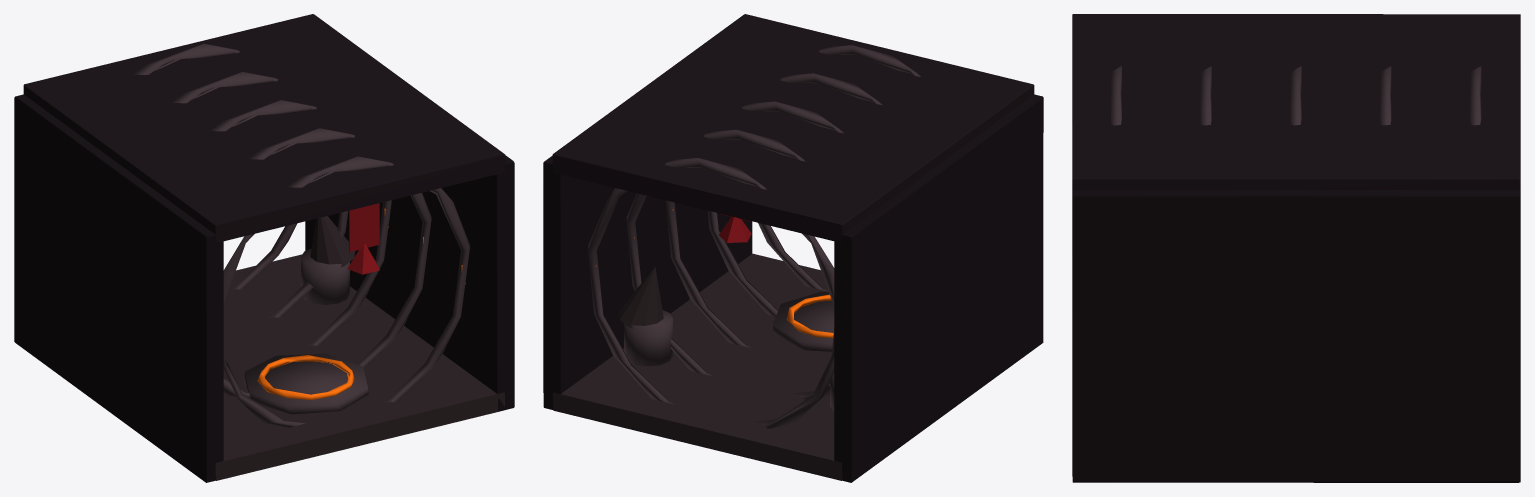
Rendered from start_hall.obj.
3 renders of one model, left to right at view 1: azimuth 30°, elevation 25°; view 2: azimuth 150°, elevation 25°; view 3: azimuth 270°, elevation 25°, orthographic. The views are drawn at different scales.
Parts seen in each view (by area): view 1: StartHall_Ceiling, StartHall_Wall_L, StartHall_Floor, StartHall_Wall_R, StartHall_Arch_4, StartHall_Landing, StartHall_Arch_3, StartHall_Arch_2, StartHall_DragonPedestal_1, StartHall_Arch_0, StartHall_Arch_1, StartHall_Dragon_1 (+3 smaller); view 2: StartHall_Ceiling, StartHall_Wall_L, StartHall_Floor, StartHall_Wall_R, StartHall_Arch_0, StartHall_Arch_2, StartHall_Arch_1, StartHall_Landing, StartHall_Arch_3, StartHall_DragonPedestal_1, StartHall_Arch_4, StartHall_Dragon_1 (+2 smaller); view 3: StartHall_Wall_R, StartHall_Ceiling, StartHall_Arch_0, StartHall_Arch_2, StartHall_Arch_1, StartHall_Arch_3, StartHall_Arch_4.
Part boxes in pixels (left/top/right/bottom): StartHall_Ceiling: left=23, top=14, right=505, bottom=242; StartHall_Wall_L: left=14, top=94, right=223, bottom=482; StartHall_Floor: left=215, top=254, right=504, bottom=480; StartHall_Wall_R: left=305, top=155, right=514, bottom=411; StartHall_Arch_4: left=223, top=156, right=470, bottom=428; StartHall_Landing: left=244, top=353, right=368, bottom=414; StartHall_Arch_3: left=223, top=128, right=431, bottom=398; StartHall_Arch_2: left=210, top=100, right=391, bottom=346; StartHall_DragonPedestal_1: left=301, top=248, right=349, bottom=304; StartHall_Arch_0: left=133, top=43, right=297, bottom=289; StartHall_Arch_1: left=172, top=72, right=348, bottom=318; StartHall_Dragon_1: left=310, top=216, right=355, bottom=266; StartHall_Ceiling: left=552, top=14, right=1034, bottom=242; StartHall_Wall_L: left=834, top=94, right=1043, bottom=482; StartHall_Floor: left=552, top=253, right=842, bottom=480; StartHall_Wall_R: left=543, top=155, right=752, bottom=409; StartHall_Arch_0: left=588, top=158, right=834, bottom=428; StartHall_Arch_2: left=666, top=101, right=843, bottom=347; StartHall_Arch_1: left=626, top=129, right=829, bottom=399; StartHall_Landing: left=773, top=291, right=834, bottom=351; StartHall_Arch_3: left=708, top=73, right=882, bottom=316; StartHall_DragonPedestal_1: left=624, top=310, right=672, bottom=366; StartHall_Arch_4: left=758, top=45, right=920, bottom=291; StartHall_Dragon_1: left=618, top=267, right=663, bottom=328; StartHall_Wall_R: left=1072, top=190, right=1520, bottom=482; StartHall_Ceiling: left=1072, top=14, right=1520, bottom=194; StartHall_Arch_0: left=1470, top=66, right=1481, bottom=125; StartHall_Arch_2: left=1290, top=66, right=1301, bottom=125; StartHall_Arch_1: left=1380, top=66, right=1391, bottom=125; StartHall_Arch_3: left=1200, top=66, right=1211, bottom=125; StartHall_Arch_4: left=1111, top=66, right=1121, bottom=125.
Size of the model in its own units: 102 by 85.34 by 110.
